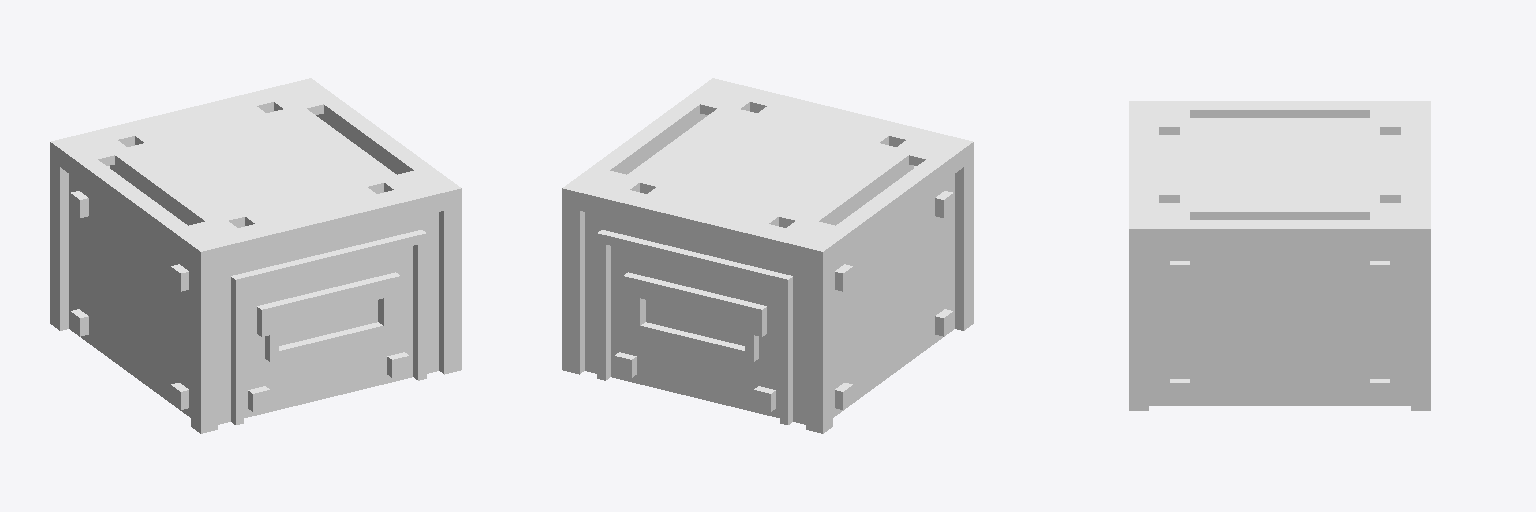
Rendered from Tilemesa.obj.
The picture shows the model from 3 angles: view 1: azimuth 30°, elevation 25°; view 2: azimuth 150°, elevation 25°; view 3: azimuth 270°, elevation 25°; orthographic projection.
Parts seen in each view (by area): view 1: object 1; view 2: object 1; view 3: object 1.
Boxes of the visible parts, <box> form: object 1: <box>50,78,461,433</box>; object 1: <box>562,78,973,433</box>; object 1: <box>1129,101,1430,410</box>.
Size of the model in its own units: 3 by 2 by 3.